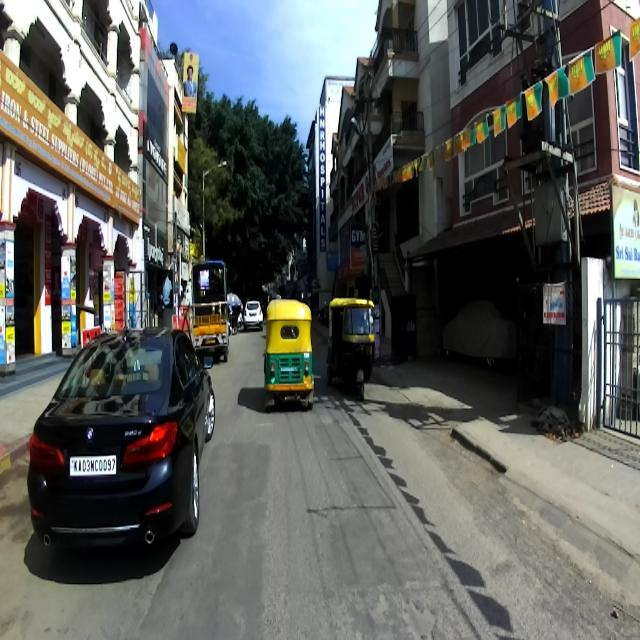autorickshaw: (264, 298, 314, 409), (326, 297, 376, 399)
car: (24, 330, 212, 554), (441, 298, 514, 370), (242, 296, 263, 334)
truck: (186, 252, 230, 365)
